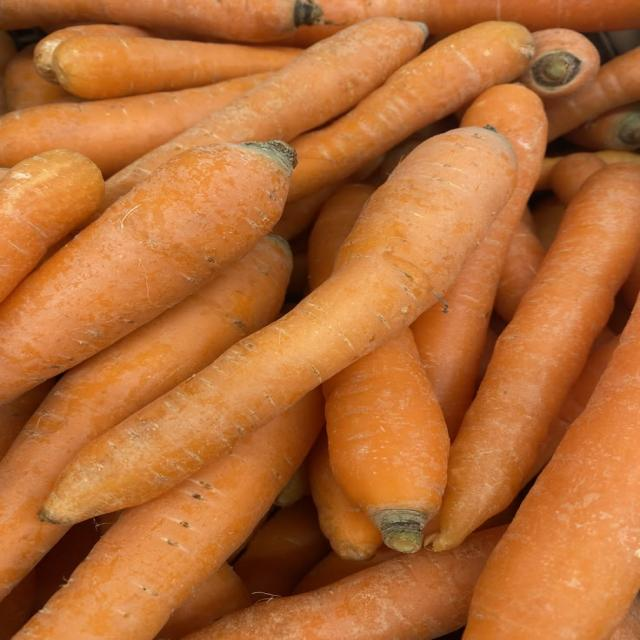carrot: (41, 128, 515, 523), (0, 236, 291, 598), (430, 164, 639, 549), (0, 141, 294, 403), (16, 389, 323, 639), (106, 17, 426, 204), (467, 306, 639, 639), (412, 83, 546, 439), (288, 21, 534, 200), (186, 527, 504, 639), (323, 328, 449, 552), (0, 73, 268, 178), (323, 328, 448, 551), (284, 0, 639, 46), (52, 35, 301, 99), (0, 149, 104, 301), (525, 327, 619, 484), (0, 0, 322, 42), (234, 497, 330, 602), (309, 431, 382, 559), (547, 47, 639, 140), (156, 563, 252, 639), (307, 183, 374, 289), (34, 24, 153, 82), (34, 520, 101, 611), (519, 28, 599, 99), (293, 546, 400, 594), (4, 45, 80, 112), (494, 222, 545, 320), (0, 379, 56, 460), (274, 183, 344, 240), (564, 101, 639, 151), (549, 152, 606, 206), (0, 571, 36, 639), (532, 194, 566, 255), (274, 458, 310, 506), (0, 30, 17, 114), (611, 597, 639, 639), (620, 256, 639, 309), (594, 150, 639, 163)
